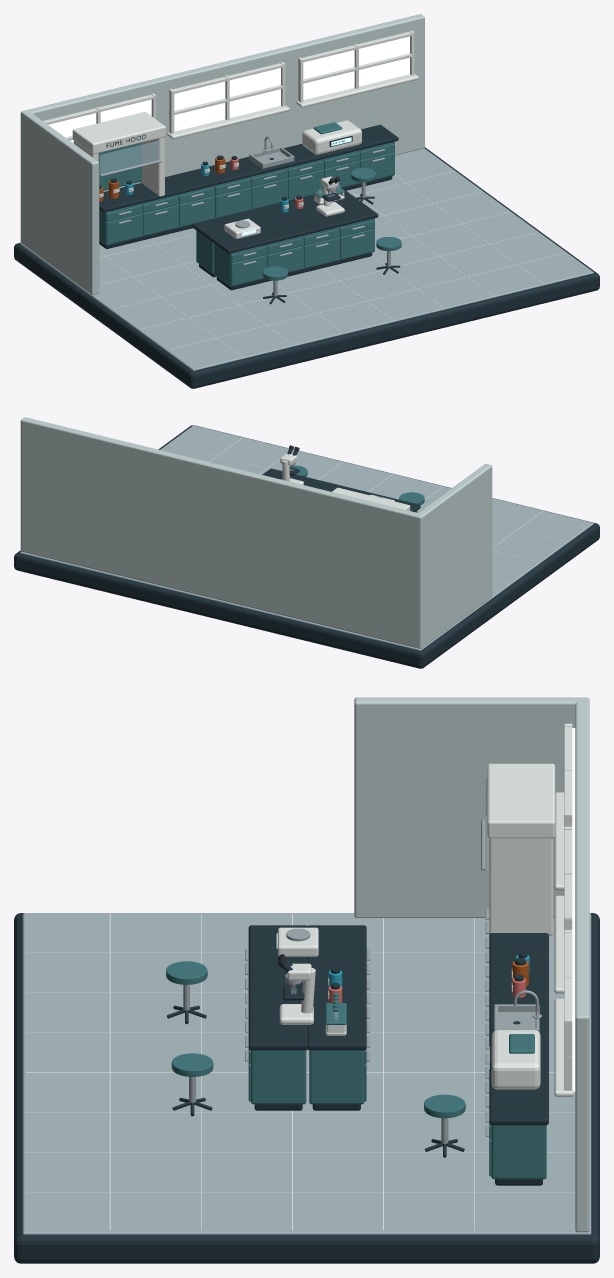
The model's file is world-base-laboratory.glb.
3 views of the same model, one above another, from view 1: azimuth 30°, elevation 25°; view 2: azimuth 150°, elevation 25°; view 3: azimuth 270°, elevation 25° (orthographic). The views are drawn at different scales.
Visible parts, largest first — view 1: object 1, object 4, object 2, Daylit window.001, Daylit window.002, Worktop.001, Worktop.002, Cabinet body.001, Daylit window, Hood upright.001, Window sill.001, Window sill.002 (+20 smaller); view 2: object 1, object 4, Worktop.001; view 3: object 1, object 4, Hood upright.001, Worktop.002, Worktop.001, object 2, Cabinet body.001, Cabinet body.002, object 3, Window sill.002, Window sill.001, Window sill (+6 smaller).
Boxes of the visible parts, <box> form: object 1: <box>14,14,599,388</box>; object 4: <box>72,112,361,238</box>; object 2: <box>98,122,394,245</box>; Daylit window.001: <box>174,68,280,131</box>; Daylit window.002: <box>303,36,409,99</box>; Worktop.001: <box>210,201,378,253</box>; Worktop.002: <box>192,188,359,240</box>; Cabinet body.001: <box>214,218,374,286</box>; Daylit window: <box>48,99,151,143</box>; Hood upright.001: <box>140,137,164,196</box>; Window sill.001: <box>167,105,289,139</box>; Window sill.002: <box>296,73,418,107</box>; object 1: <box>14,417,599,668</box>; object 4: <box>280,453,410,510</box>; Worktop.001: <box>262,468,420,511</box>; object 1: <box>14,697,599,1263</box>; object 4: <box>276,763,555,1089</box>; Hood upright.001: <box>489,838,553,935</box>; Worktop.002: <box>307,925,366,1050</box>; Worktop.001: <box>248,925,307,1050</box>; object 2: <box>325,1003,546,1179</box>; Cabinet body.001: <box>251,1050,306,1104</box>; Cabinet body.002: <box>309,1050,364,1104</box>; object 3: <box>285,819,541,1028</box>; Window sill.002: <box>554,998,573,1096</box>; Window sill.001: <box>554,895,564,993</box>; Window sill: <box>554,792,564,890</box>.
Size of what is drawn, in the model's own units: 10.64 by 3.72 by 8.04.
